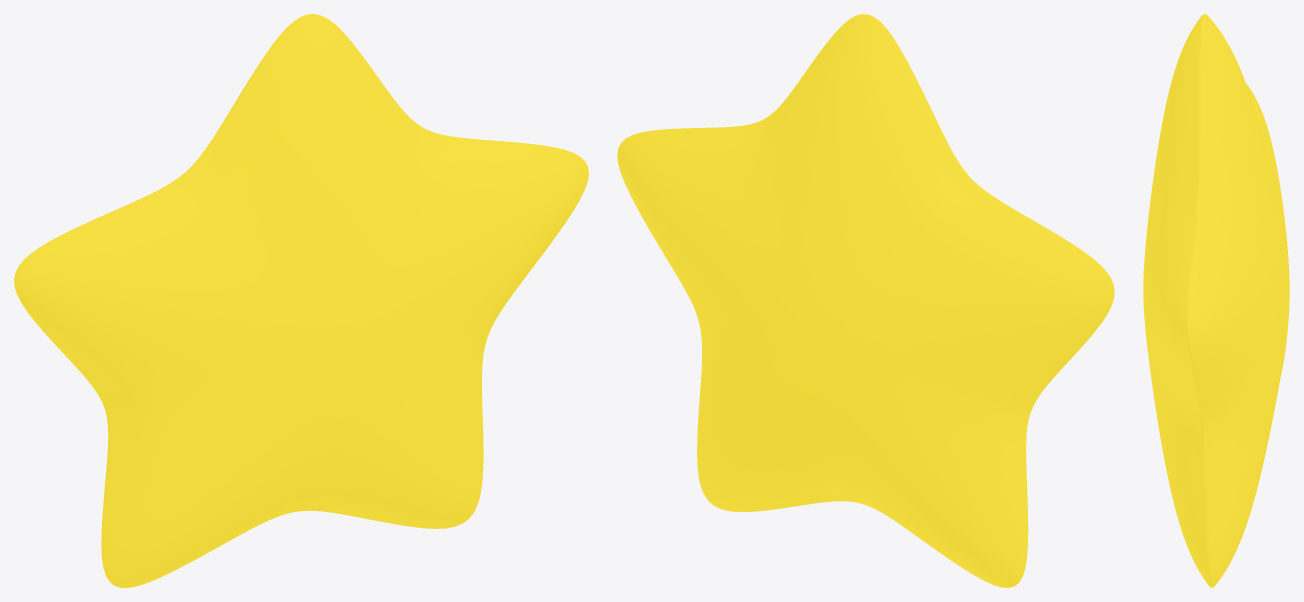
Rendered from star.glb.
3 views of the same model, side by side, from view 1: azimuth 30°, elevation 25°; view 2: azimuth 150°, elevation 25°; view 3: azimuth 270°, elevation 25° (orthographic). The views are drawn at different scales.
Visible parts, largest first — view 1: Circle; view 2: Circle; view 3: Circle.
Boxes of the visible parts, x1,y1,x2,y2 form: Circle: [14, 14, 588, 587]; Circle: [617, 14, 1114, 587]; Circle: [1143, 14, 1289, 587].
Size of the model in its own units: 1.64 by 1.58 by 0.4157.
